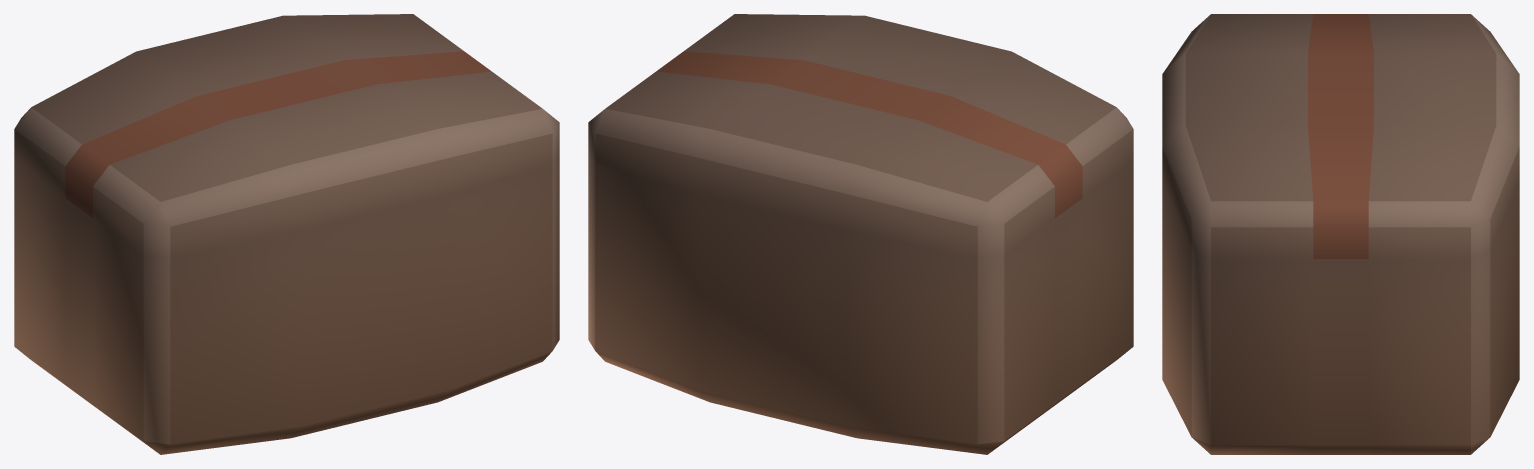
The model's file is carton box.fbx.
3 views of the same model, side by side, from view 1: azimuth 30°, elevation 25°; view 2: azimuth 150°, elevation 25°; view 3: azimuth 270°, elevation 25° (orthographic).
Parts seen in each view (by area): view 1: carton box; view 2: carton box; view 3: carton box.
Boxes of the visible parts, left/top/right/bottom form: carton box: left=14, top=14, right=559, bottom=454; carton box: left=588, top=14, right=1133, bottom=454; carton box: left=1162, top=14, right=1519, bottom=454.
Size of the model in its own units: 253 by 159 by 188.
